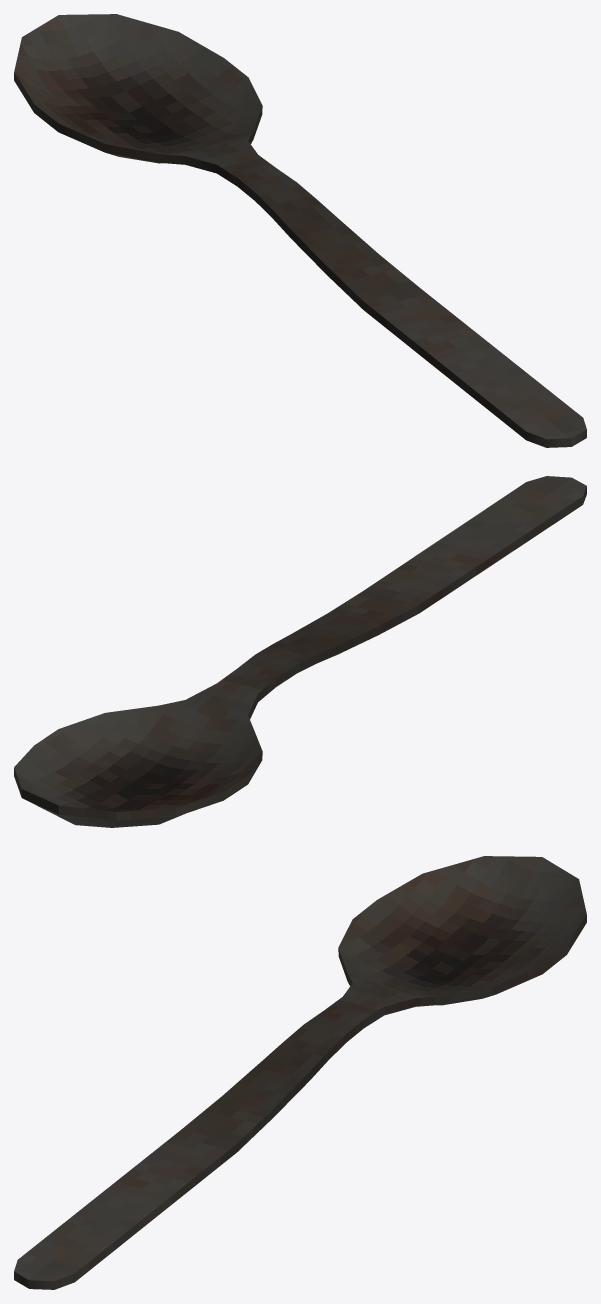
Rendered from spoon_mp_1.glb.
The picture shows the model from 3 angles, top to bottom: view 1: azimuth 30°, elevation 25°; view 2: azimuth 150°, elevation 25°; view 3: azimuth 330°, elevation 25°; orthographic projection.
Parts seen in each view (by area): view 1: spoon_mp_1; view 2: spoon_mp_1; view 3: spoon_mp_1.
Part boxes in pixels (left/top/right/bottom): spoon_mp_1: left=14, top=14, right=586, bottom=447; spoon_mp_1: left=14, top=476, right=586, bottom=827; spoon_mp_1: left=14, top=856, right=586, bottom=1289.
Bounding box in the file's own units: 0.0585 × 0.0168 × 0.2741.
1 material, 1 textured.
